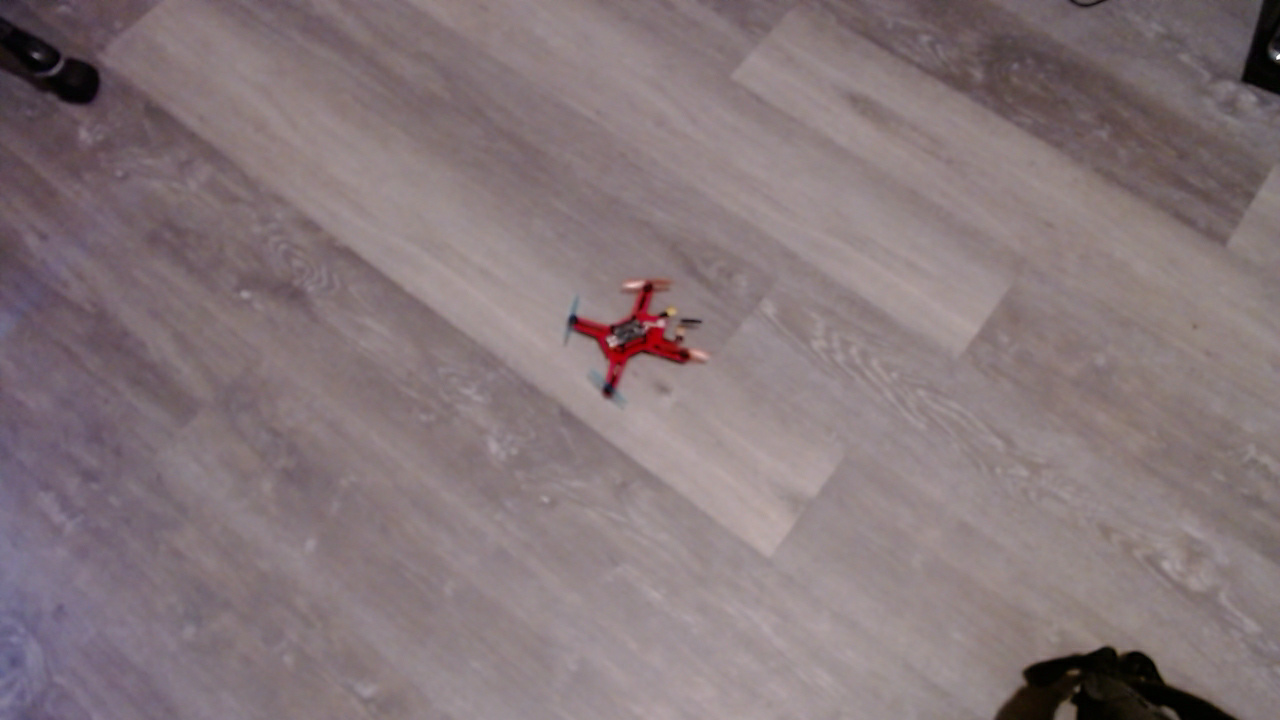crazyflie: (563, 272, 722, 410)
